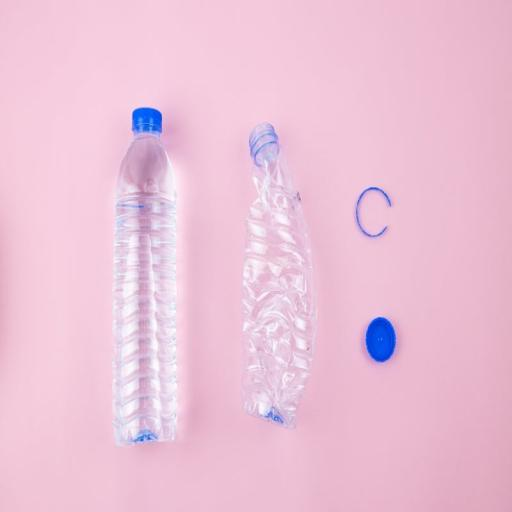plastic: (112, 104, 184, 448), (239, 115, 316, 436), (355, 187, 393, 241), (365, 316, 395, 362)
